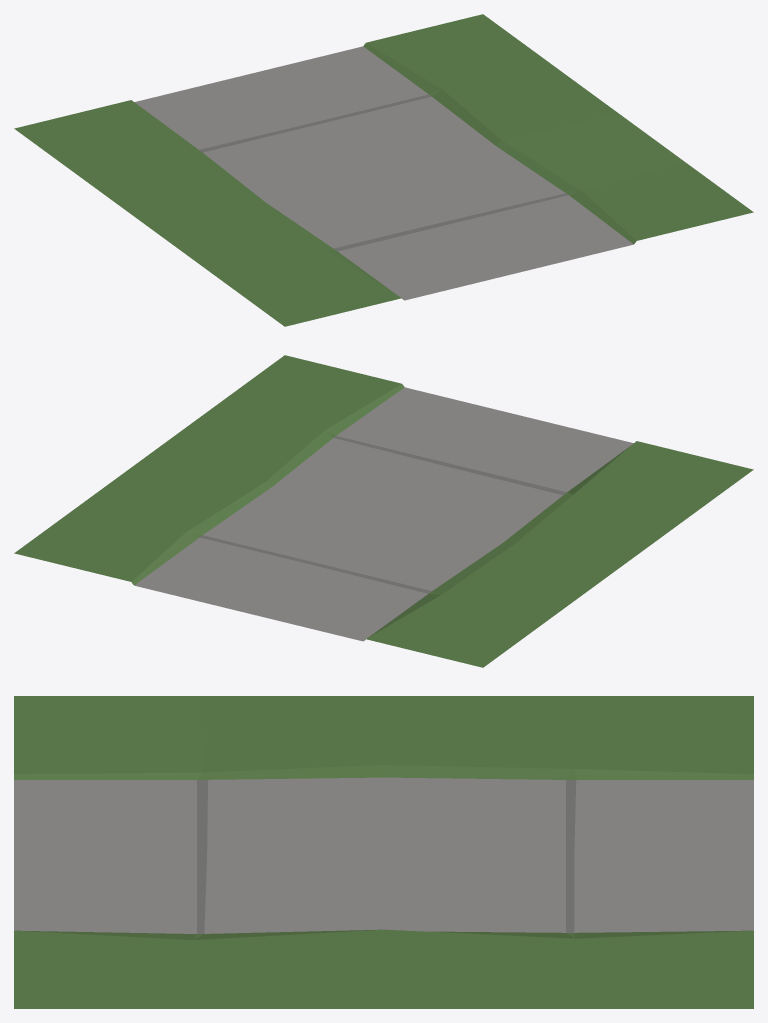
File: SM_Env_Driveway_01.fbx
The picture shows the model from 3 angles, top to bottom: view 1: azimuth 30°, elevation 25°; view 2: azimuth 150°, elevation 25°; view 3: azimuth 270°, elevation 25°; orthographic projection. The views are drawn at different scales.
Parts seen in each view (by area): view 1: SM_Env_Driveway_01; view 2: SM_Env_Driveway_01; view 3: SM_Env_Driveway_01.
Boxes of the visible parts, x1,y1,x2,y2 form: SM_Env_Driveway_01: [14, 14, 753, 326]; SM_Env_Driveway_01: [14, 355, 753, 667]; SM_Env_Driveway_01: [14, 696, 753, 1008].
Size of the model in its own units: 500 by 4.07 by 500.
